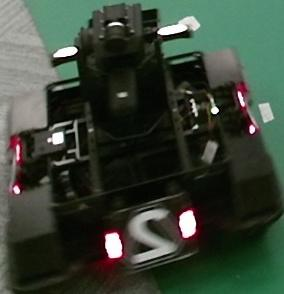armor_2: (104, 209, 198, 259)
